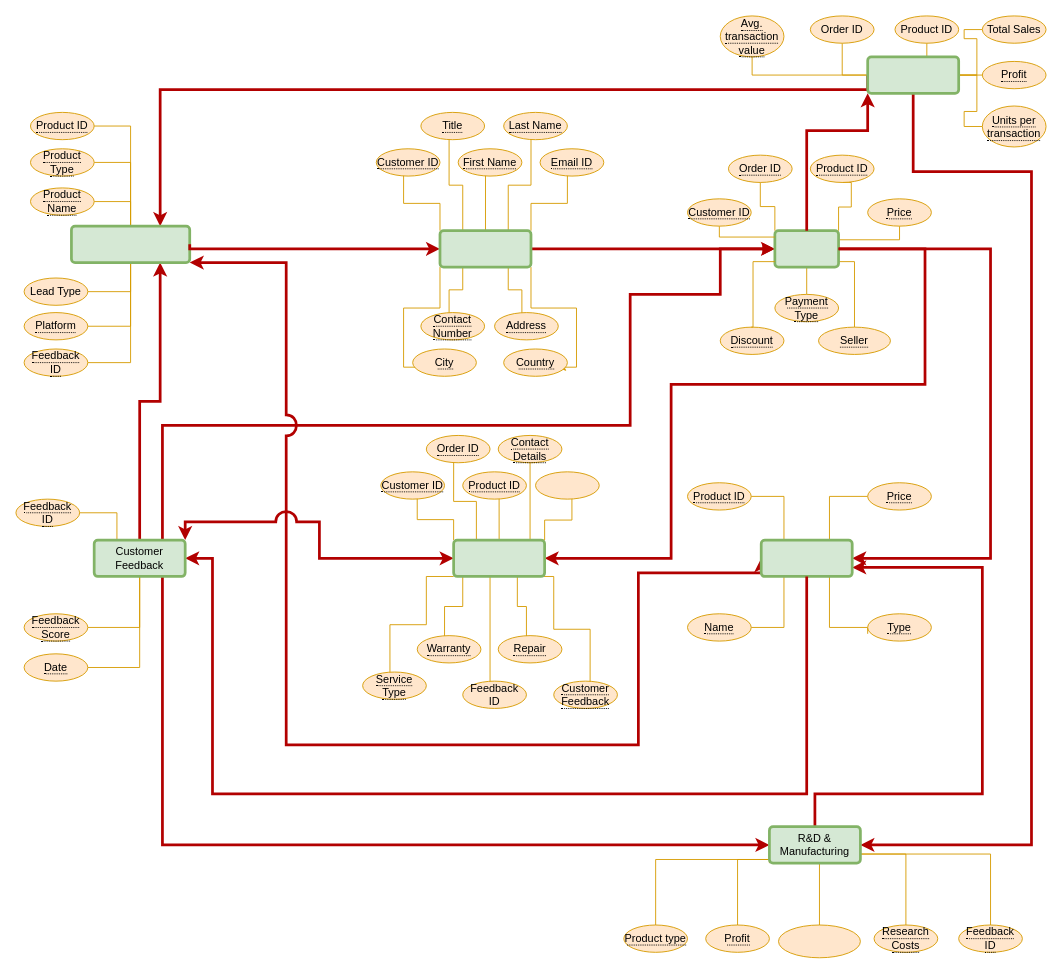
This 1062x974 diagram has some shape labels left out. Each missing label, with the box of its shape:
Advertising/Marketing: (70, 224, 191, 263)
After-Sales Services: (452, 538, 546, 577)
Customer: (438, 229, 532, 268)
Customer History: (535, 471, 599, 499)
Manufacturing Costs: (778, 924, 860, 958)
Product: (759, 538, 853, 577)
Revenue: (866, 55, 960, 94)
Sales: (773, 229, 839, 268)
